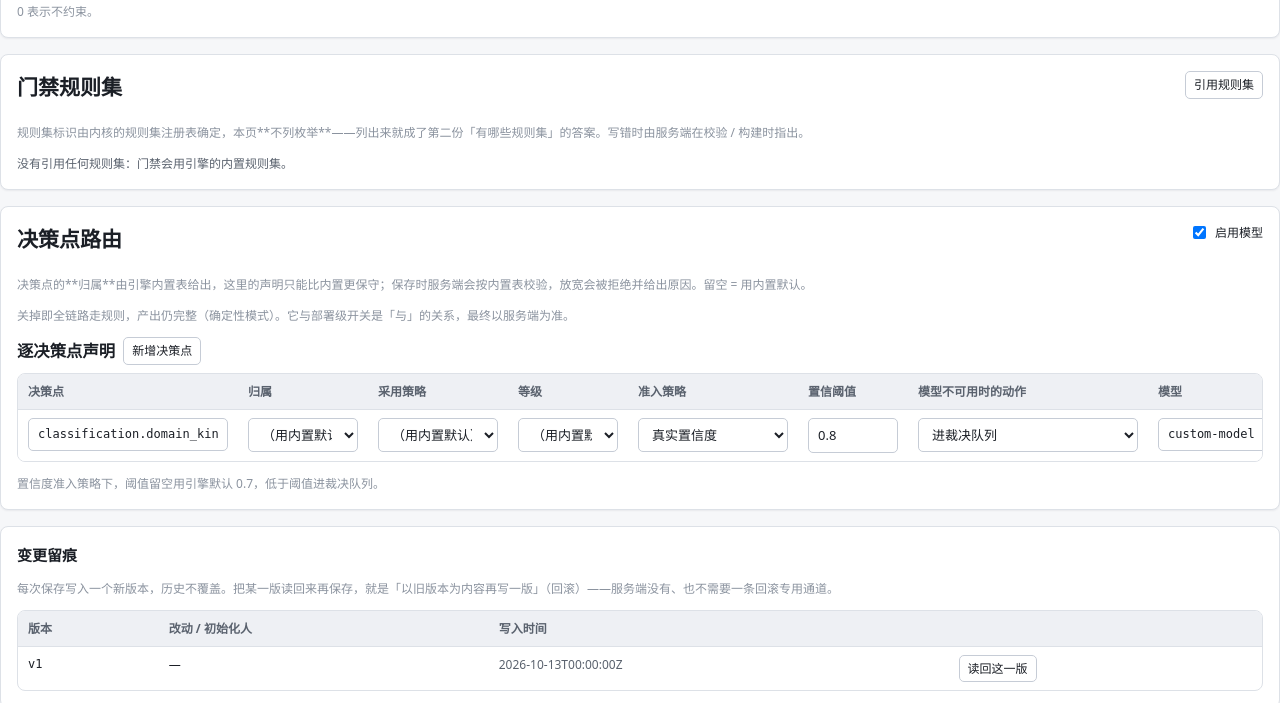
准入策略适用范围由服务端校验且错误原样显示
This screenshot has width=1280, height=703.
(page scrolled)
Select "独立约束校验" in the dropdown named "准入策略 classification.domain_kind" at (713, 435), box [638,418,788,452]
(page scrolled)
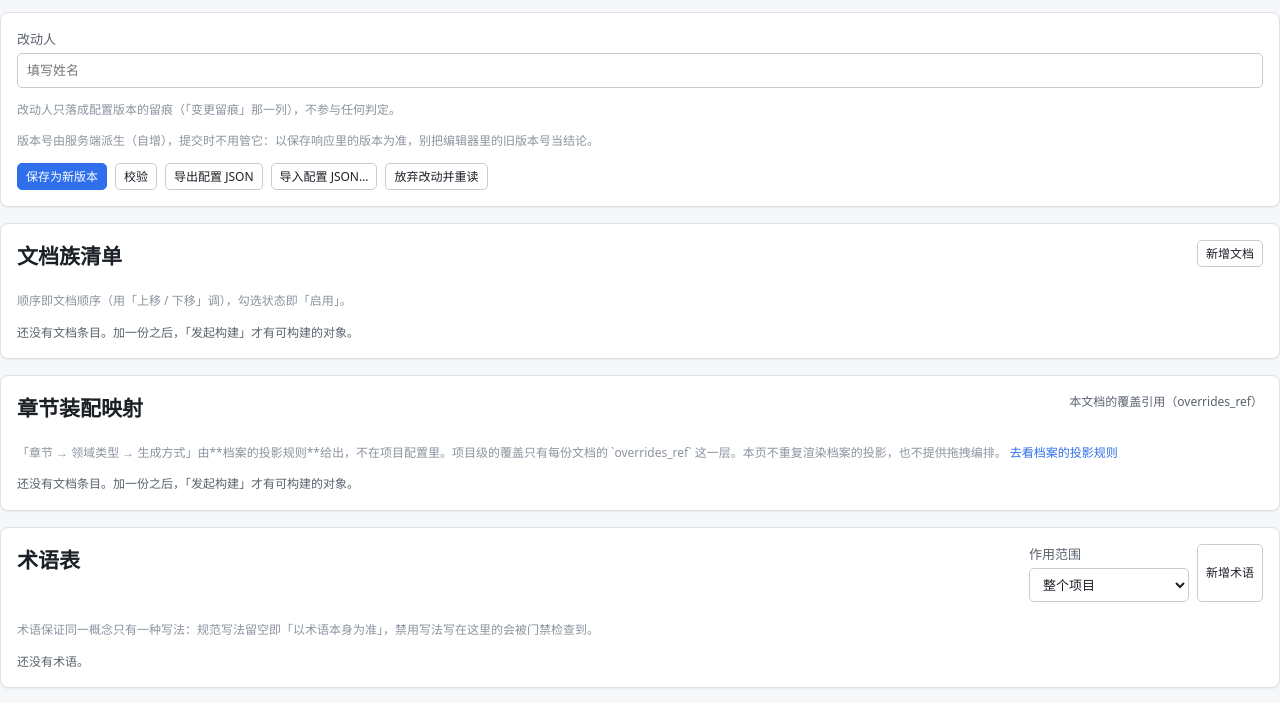
Click the button "保存为新版本" at (62, 176), box [17,162,107,190]
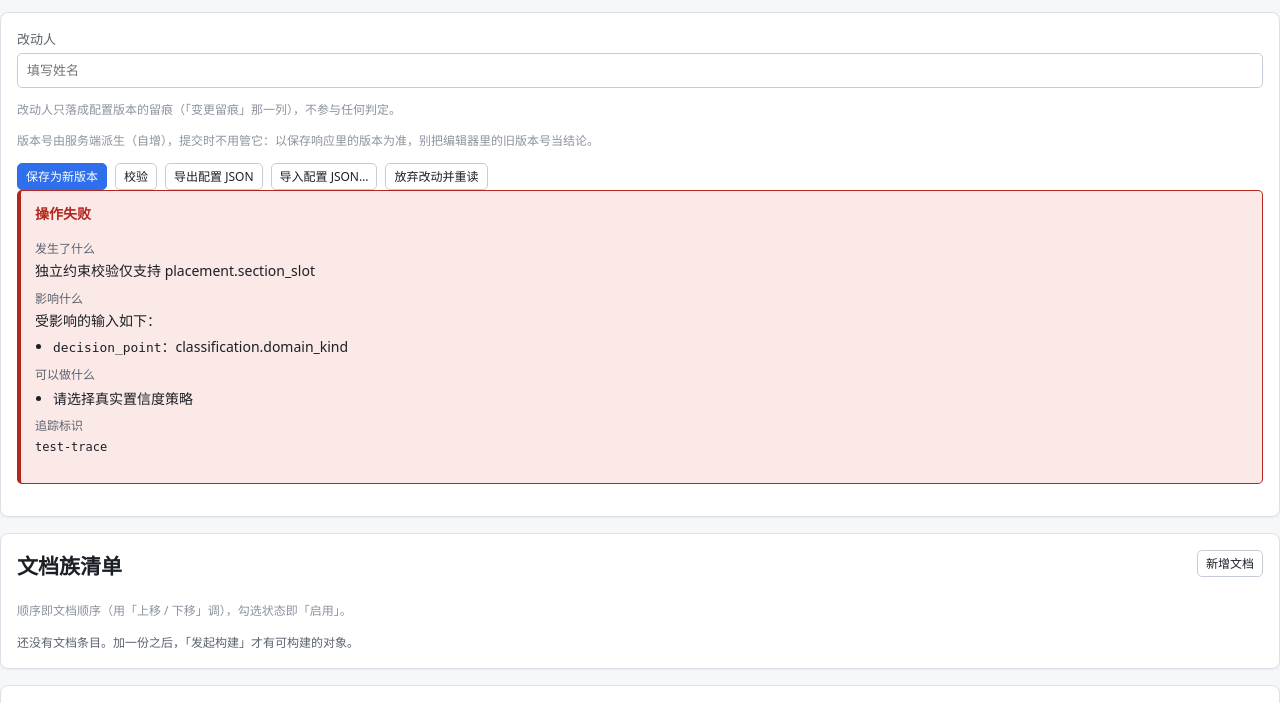
Now the text "独立约束校验仅支持 placement.section_slot" is shown, box [35,261,315,280]
